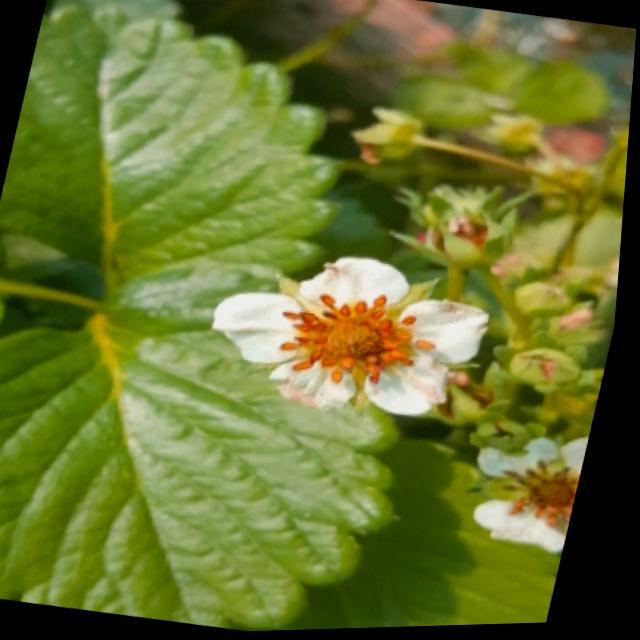Blossom Blight: (280, 286, 445, 388)
